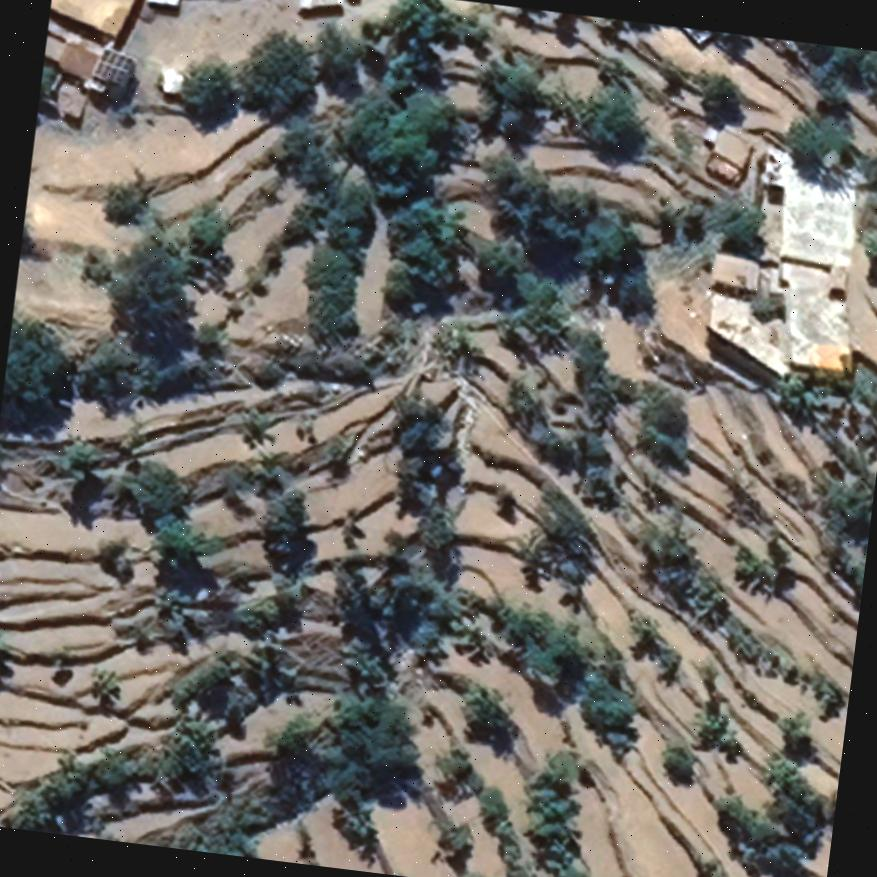Solarpanel: (90, 46, 136, 87)
